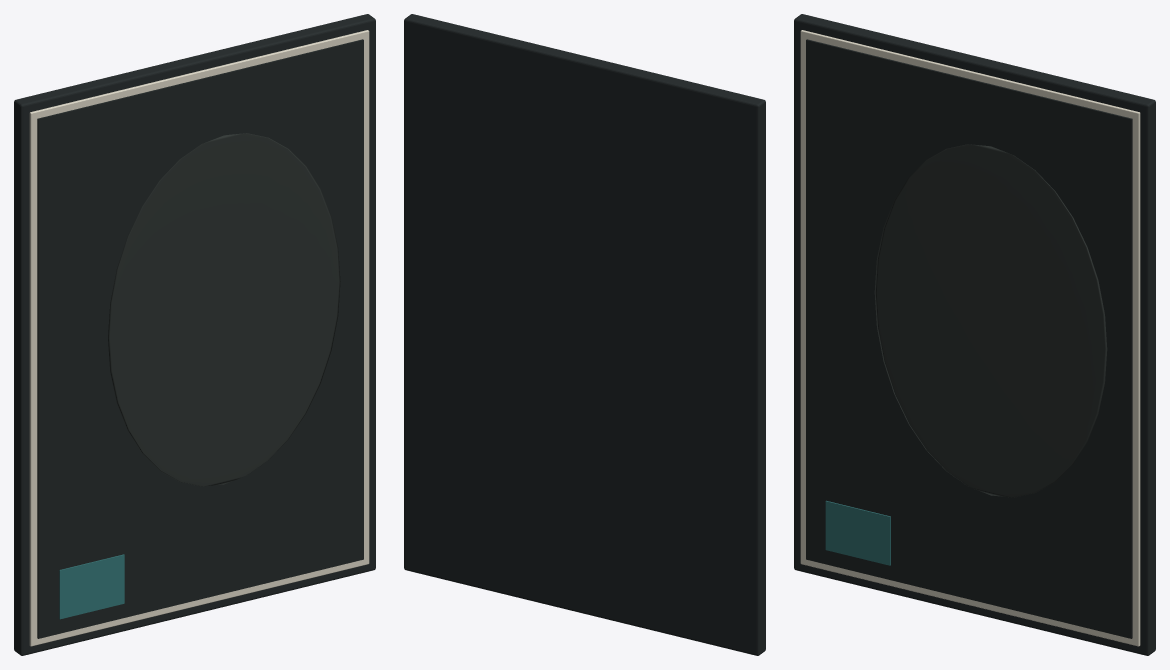
Rendered from dark-poster-frame.glb.
3 views of the same model, side by side, from view 1: azimuth 30°, elevation 25°; view 2: azimuth 150°, elevation 25°; view 3: azimuth 330°, elevation 25° (orthographic).
Visible parts, largest first — view 1: dark-poster-frame; view 2: dark-poster-frame; view 3: dark-poster-frame.
Part boxes in pixels (x1=…): dark-poster-frame: x1=14, y1=14, x2=375, y2=655; dark-poster-frame: x1=404, y1=14, x2=765, y2=655; dark-poster-frame: x1=794, y1=14, x2=1155, y2=655.
Bounding box in the file's own units: 0.55 × 0.816 × 0.03.
